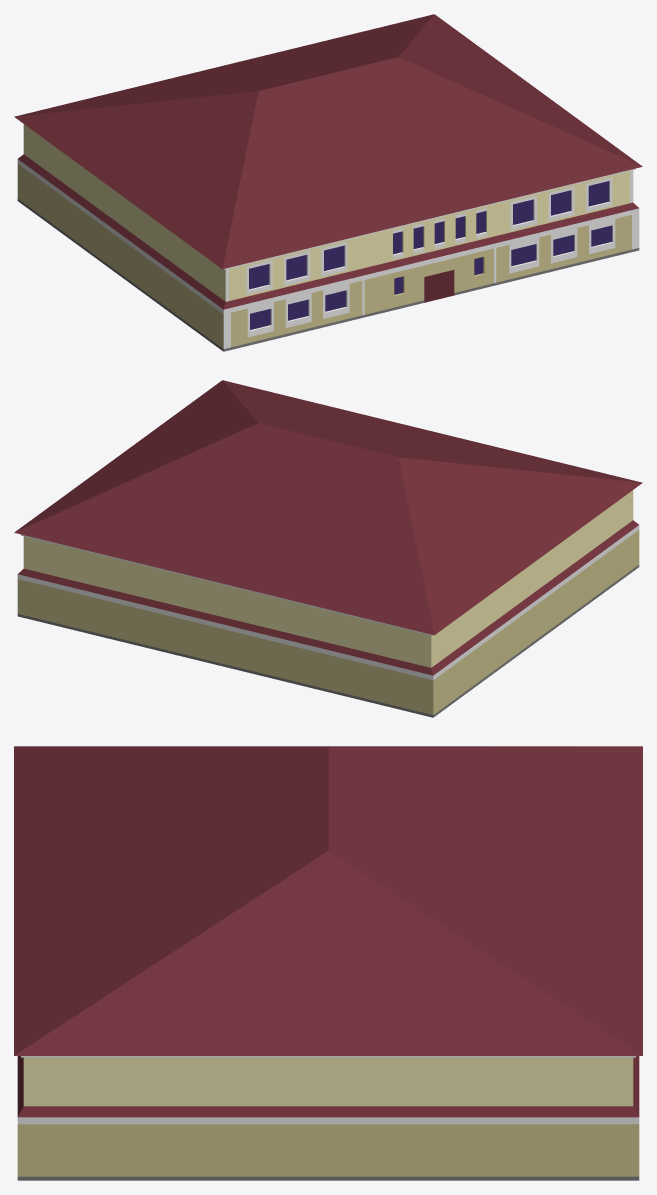
Rendered from Мужская школа.glb.
The picture shows the model from 3 angles, top to bottom: view 1: azimuth 30°, elevation 25°; view 2: azimuth 150°, elevation 25°; view 3: azimuth 270°, elevation 25°; orthographic projection. The views are drawn at different scales.
Parts seen in each view (by area): view 1: 475441048; view 2: 475441048; view 3: 475441048.
Part boxes in pixels (left/top/right/bottom): 475441048: left=14, top=14, right=642, bottom=351; 475441048: left=14, top=380, right=642, bottom=717; 475441048: left=14, top=746, right=642, bottom=1180.
Bounding box in the file's own units: 36.53 × 12.58 × 31.36.
